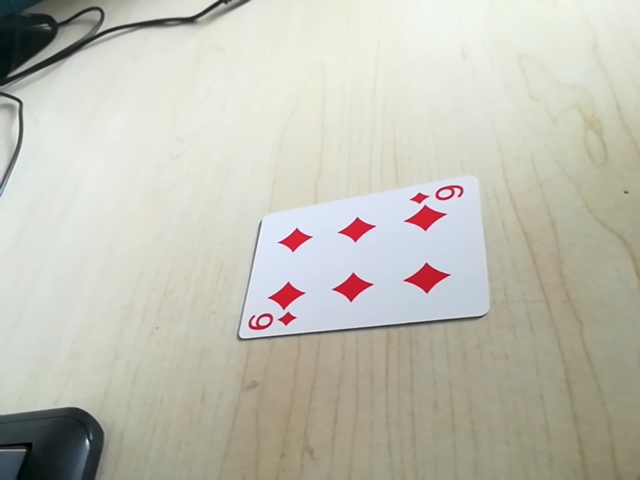fk 6: (408, 180, 471, 208), (244, 309, 301, 336)
